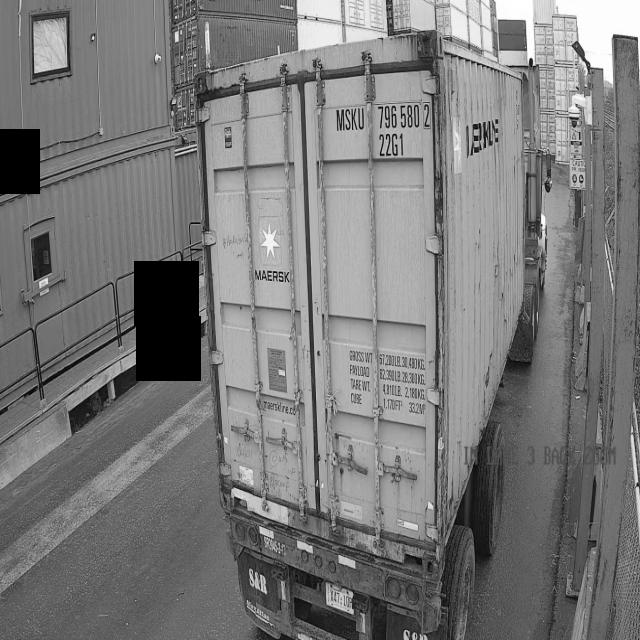container_company_logo: (253, 216, 288, 291)
container_number: (335, 104, 433, 161)
license_plate: (322, 585, 357, 615)
other_container_info: (346, 342, 426, 419)
truck_with_container: (196, 31, 552, 640)
